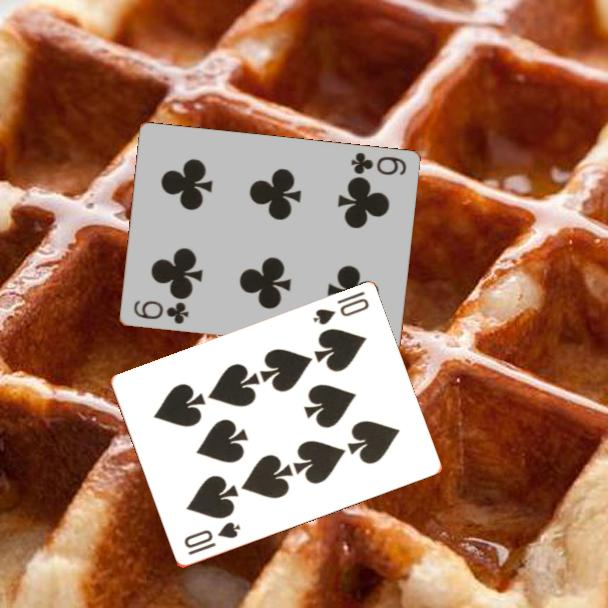c06: (130, 297, 191, 327), (347, 149, 409, 178)
s10: (180, 519, 243, 559), (309, 288, 372, 328)
